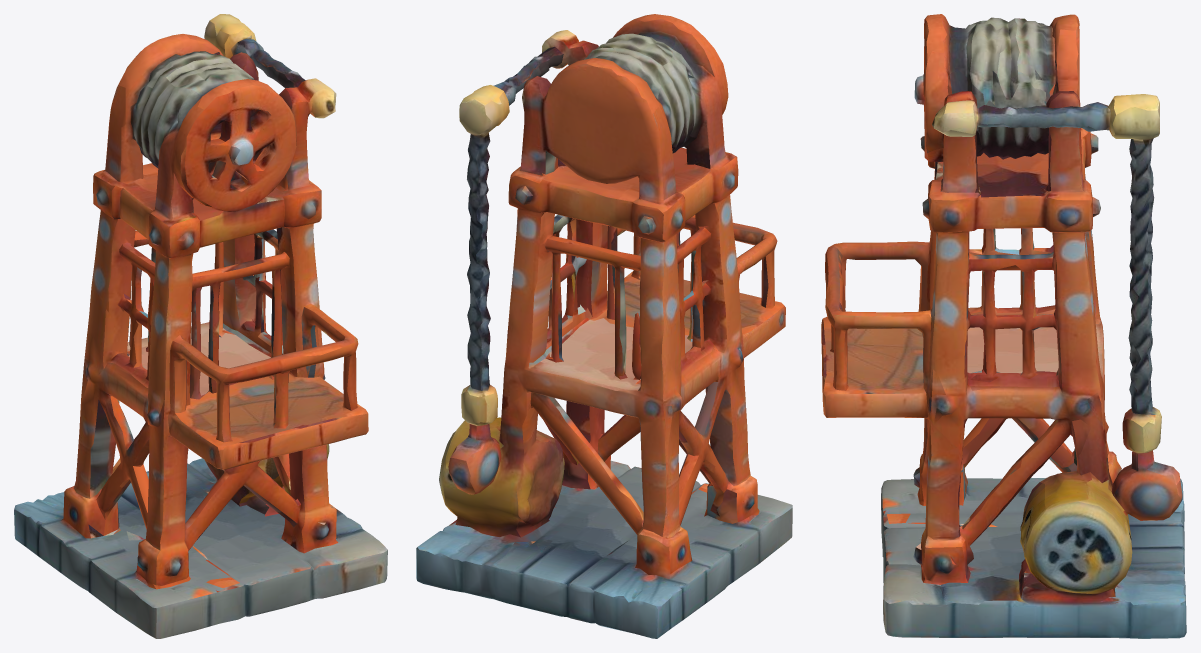
File: lift.glb
The picture shows the model from 3 angles, left to right: view 1: azimuth 30°, elevation 25°; view 2: azimuth 150°, elevation 25°; view 3: azimuth 270°, elevation 25°; orthographic projection. The views are drawn at different scales.
Visible parts, largest first — view 1: lift_s11; view 2: lift_s11; view 3: lift_s11.
Part boxes in pixels (bbox=[...]): lift_s11: bbox=[14, 14, 387, 638]; lift_s11: bbox=[416, 14, 792, 638]; lift_s11: bbox=[821, 14, 1186, 638].
Size of the model in its own units: 0.5083 by 1 by 0.6035.
Materials: 1 (1 with a texture image).
